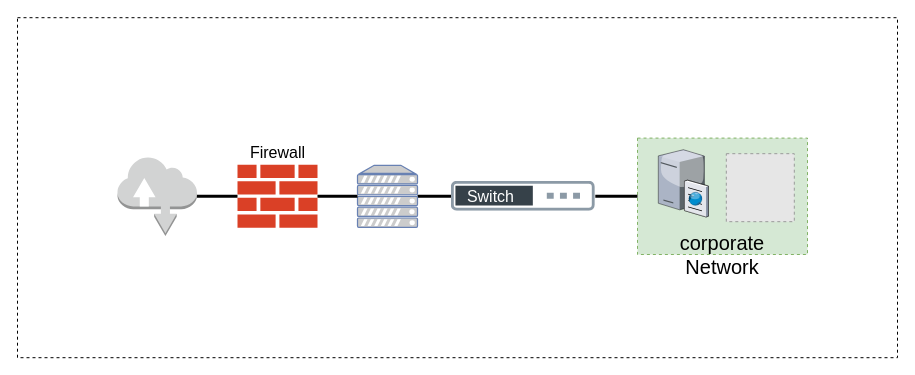
Image size: 915x375. Some labels were removed from this diagram. Grey dashed boxes stand in for pictures. Each missing label, with the centre of its shape:
IDPS: (x=387, y=196)
Internet: (x=156, y=196)
